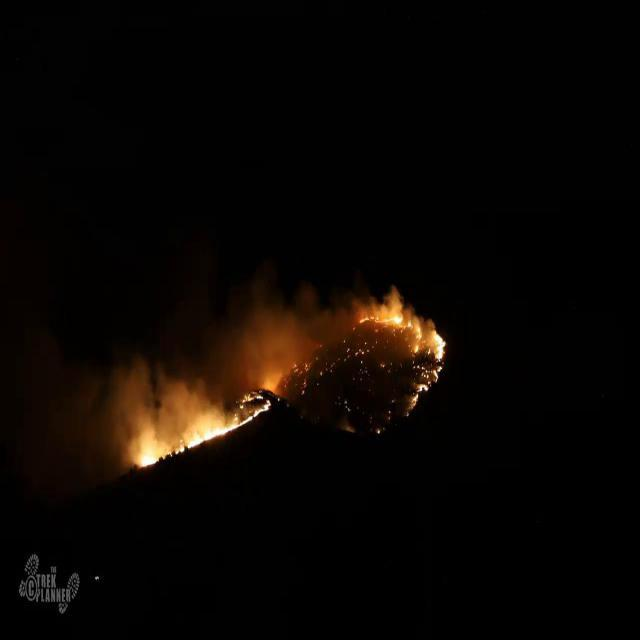Fire: (135, 389, 269, 472), (361, 305, 421, 353), (429, 323, 449, 383), (410, 384, 430, 410)
